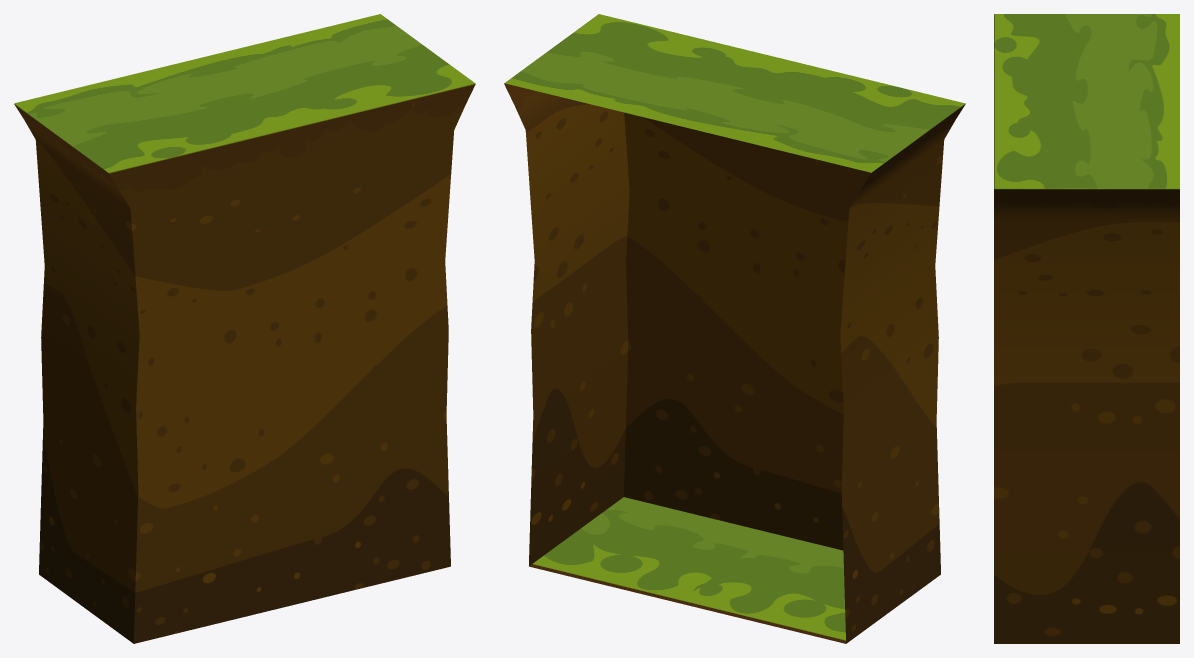
The model's file is wold_1_1.fbx.
The picture shows the model from 3 angles, left to right: view 1: azimuth 30°, elevation 25°; view 2: azimuth 150°, elevation 25°; view 3: azimuth 270°, elevation 25°; orthographic projection. The views are drawn at different scales.
Visible parts, largest first — view 1: world_1; view 2: world_1; view 3: world_1.
Part boxes in pixels (x1,y1,x2,y2): world_1: (14, 14, 475, 643); world_1: (504, 14, 965, 643); world_1: (994, 14, 1179, 643).
Bounding box in the file's own units: 885 × 1100 × 397.
1 material, 1 textured.
